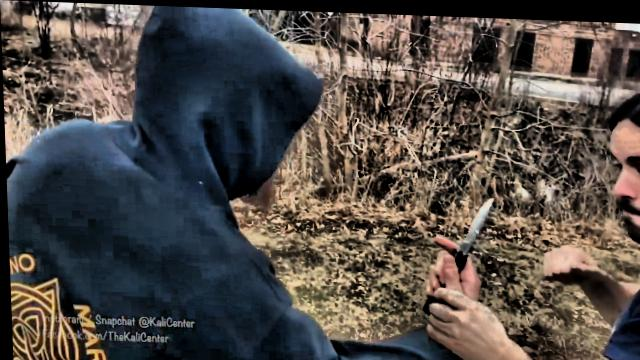knife: (414, 185, 502, 313)
